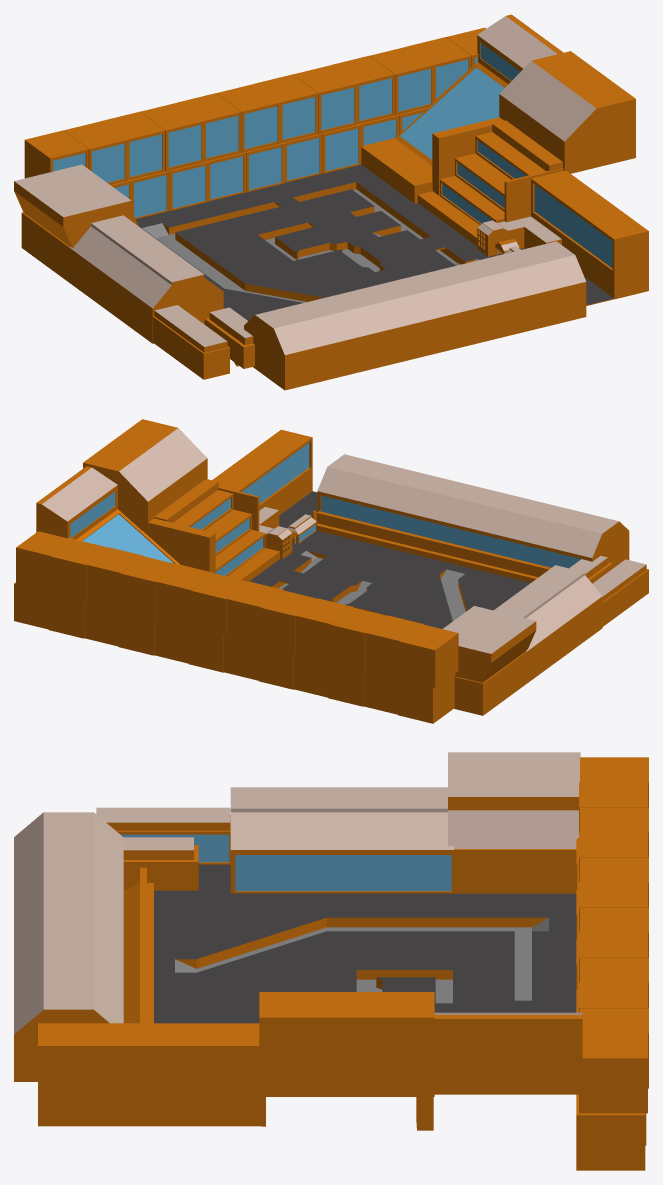
The model's file is CityLiveSector4.fbx.
The picture shows the model from 3 angles, top to bottom: view 1: azimuth 30°, elevation 25°; view 2: azimuth 150°, elevation 25°; view 3: azimuth 270°, elevation 25°; orthographic projection. The views are drawn at different scales.
Visible parts, largest first — view 1: Map; view 2: Map; view 3: Map.
Boxes of the visible parts, left/top/right/bottom form: Map: left=14, top=14, right=648, bottom=390; Map: left=14, top=419, right=648, bottom=723; Map: left=14, top=752, right=648, bottom=1170.
Bounding box in the file's own units: 36432 × 8501 × 29723.
